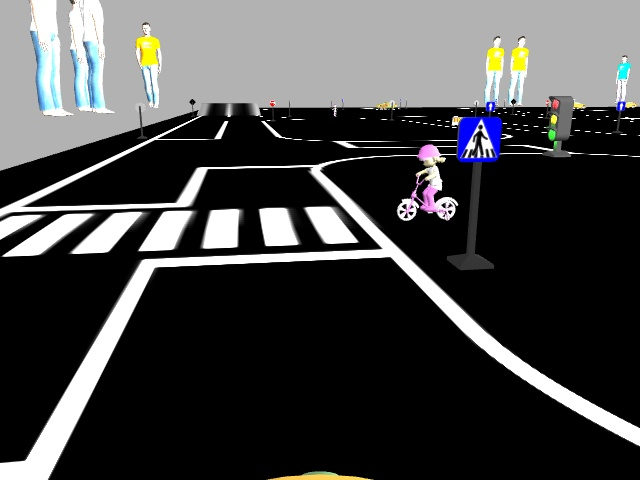Crosswalk: (454, 115, 499, 160)
Pedestrian: (396, 143, 458, 223)
TrafficLight: (545, 92, 575, 143)
